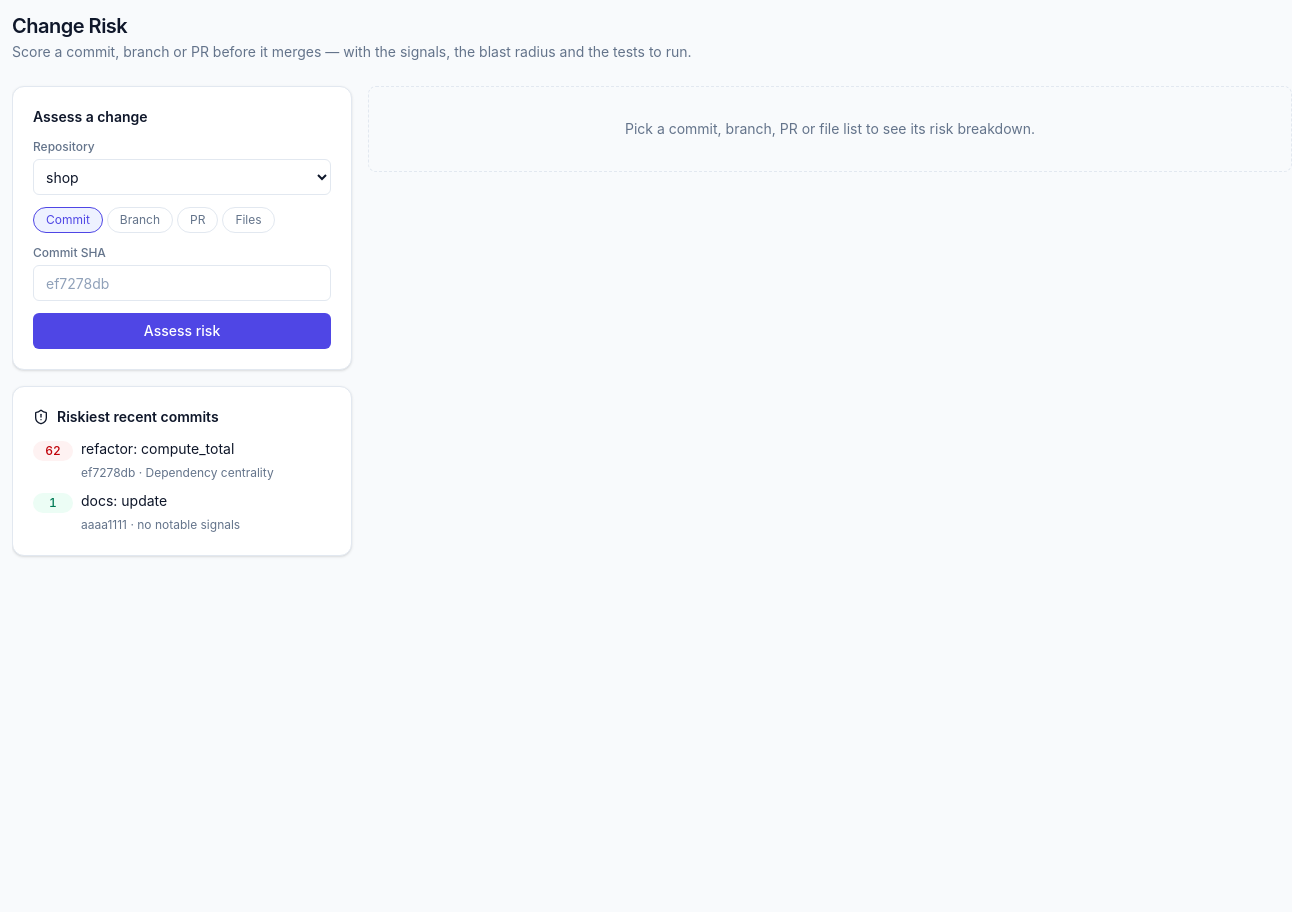
Risk page › scans recent commits and opens an assessment when one is clicked
The image size is (1292, 912).
Click the button "62 refactor: compute_total ef7278db · Dependency centrality" at (53, 451), box x1=33 y1=439 x2=331 y2=483
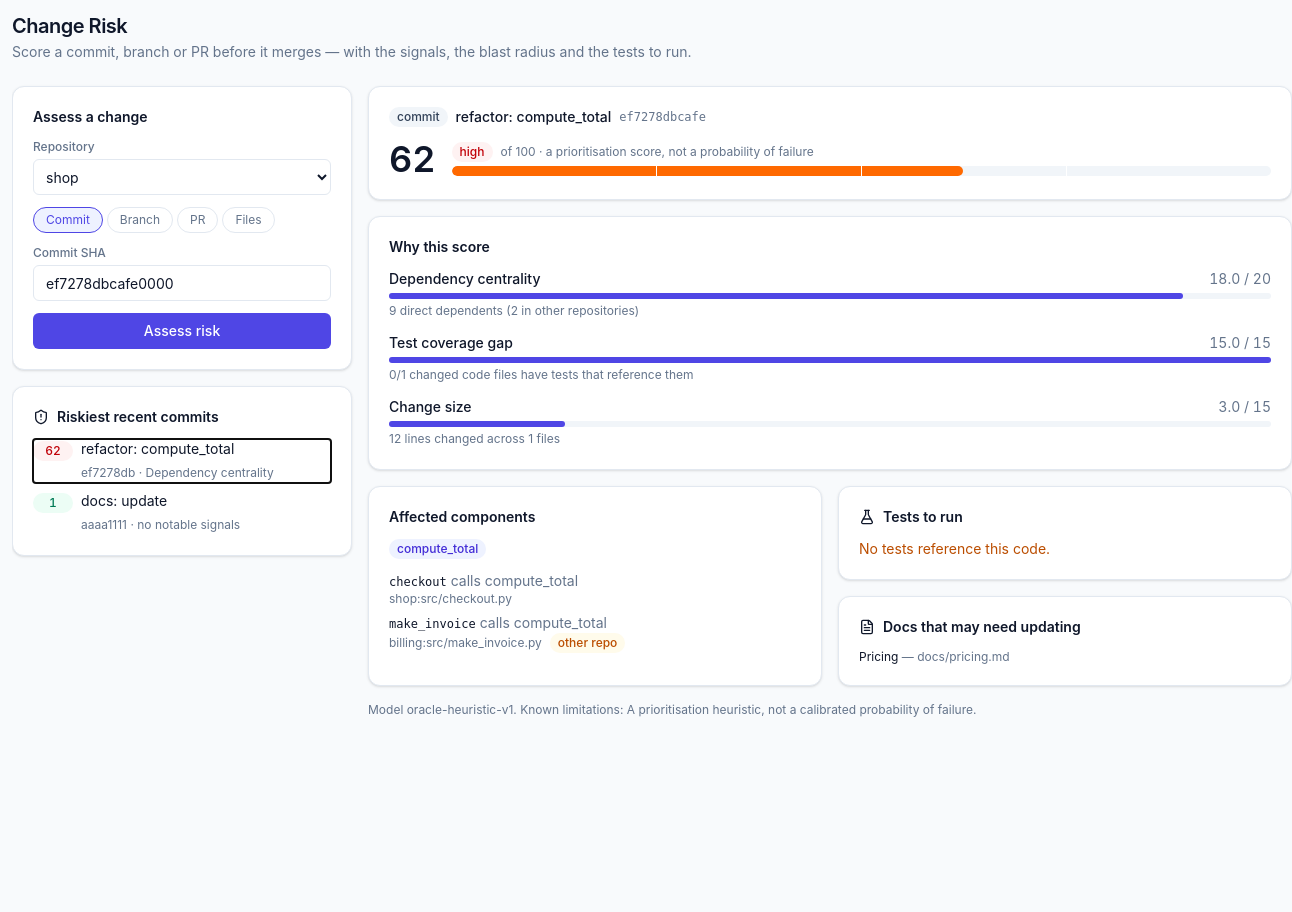
Expected: the heading "Why this score" is shown, x1=389 y1=237 x2=490 y2=257
